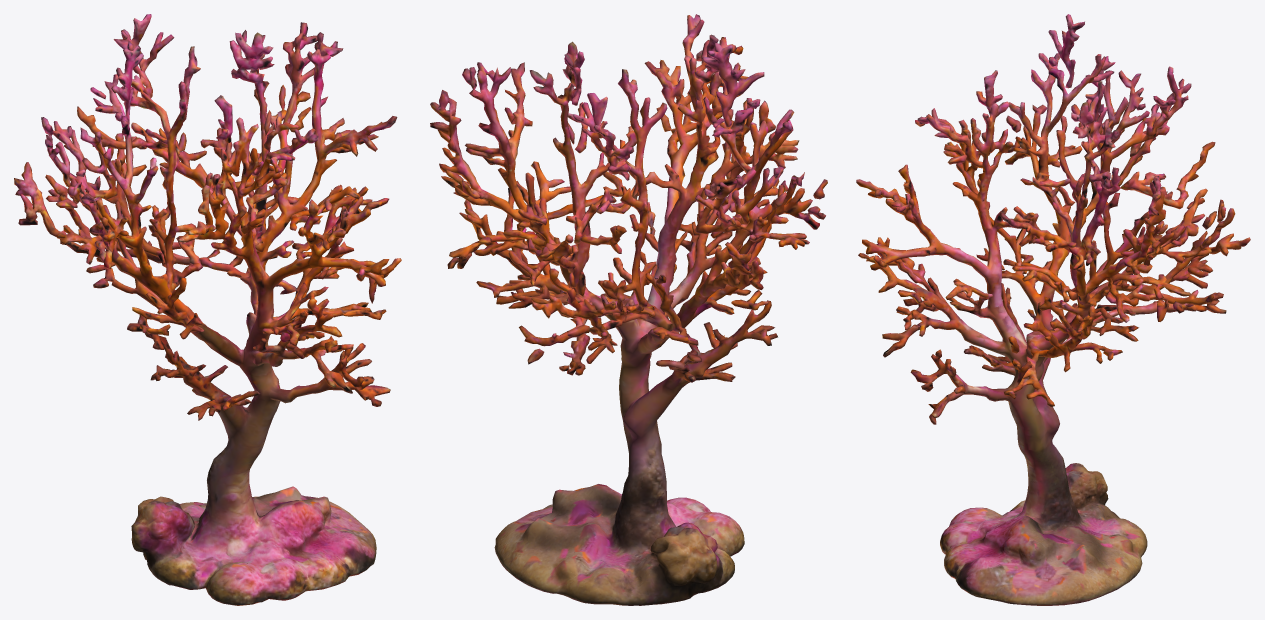
Rendered from AI_CoralTree.fbx.
3 renders of one model, left to right at view 1: azimuth 30°, elevation 25°; view 2: azimuth 150°, elevation 25°; view 3: azimuth 270°, elevation 25°, orthographic. The views are drawn at different scales.
Visible parts, largest first — view 1: Mesh1.0; view 2: Mesh1.0; view 3: Mesh1.0.
Part boxes in pixels (box(x1,y1,x2,y2)): Mesh1.0: box(14, 14, 401, 605); Mesh1.0: box(430, 14, 827, 605); Mesh1.0: box(856, 14, 1250, 605).
Size of the model in its own units: 127 by 199 by 145.
Materials: 1 (1 with a texture image).
